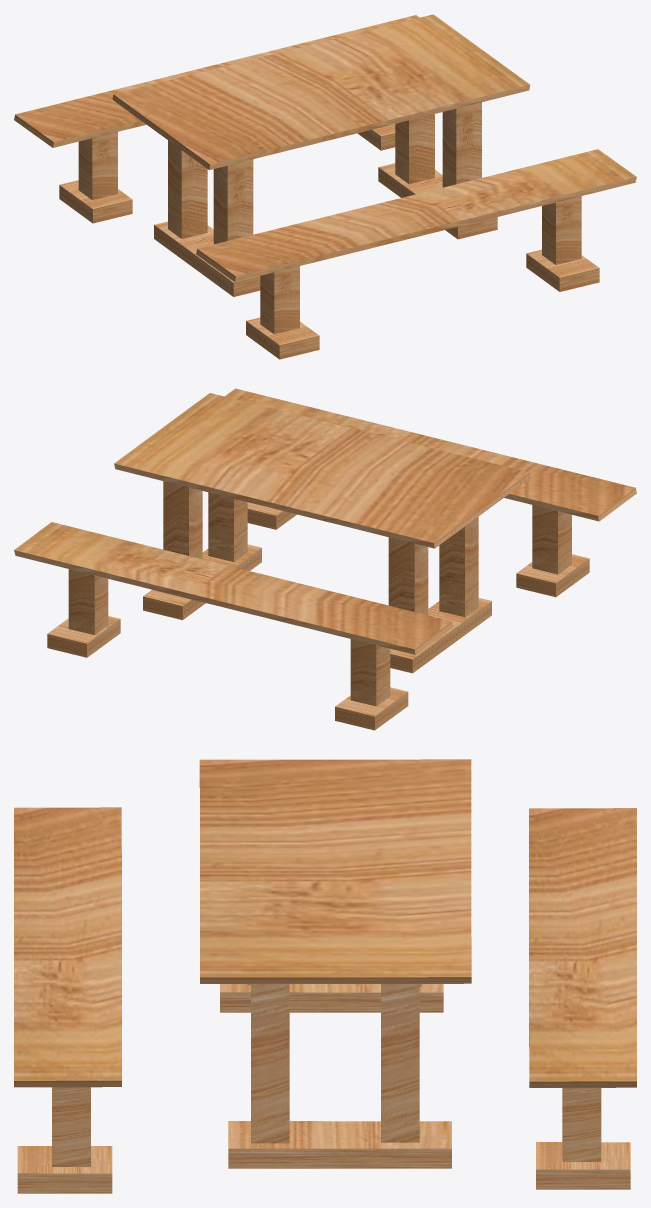
The picture shows the model from 3 angles, top to bottom: view 1: azimuth 30°, elevation 25°; view 2: azimuth 150°, elevation 25°; view 3: azimuth 270°, elevation 25°; orthographic projection. The views are drawn at different scales.
Visible parts, largest first — view 1: A4; view 2: A4; view 3: A4.
Boxes of the visible parts, x1=… form: A4: x1=14, y1=14, x2=636, y2=359; A4: x1=14, y1=388, x2=636, y2=730; A4: x1=14, y1=759, x2=636, y2=1193.
Bounding box in the file's own units: 4.24 × 1.52 × 4.02.
1 material, 1 textured.
